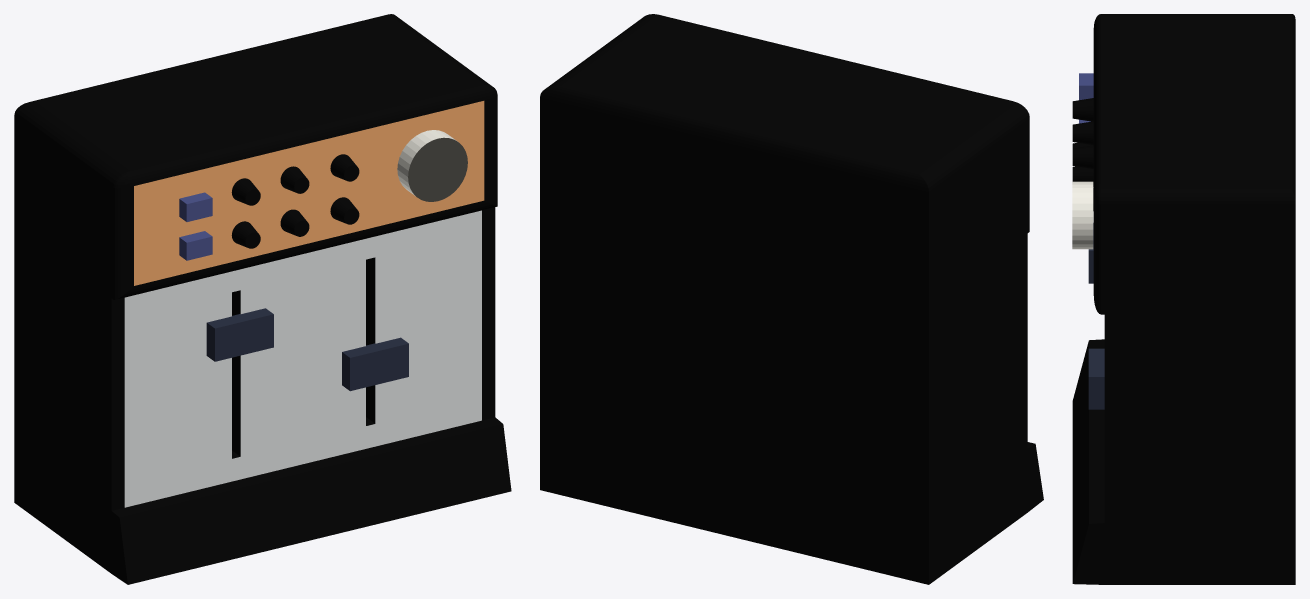
Rendered from Mixer2Unico.fbx.
3 renders of one model, left to right at view 1: azimuth 30°, elevation 25°; view 2: azimuth 150°, elevation 25°; view 3: azimuth 270°, elevation 25°, orthographic. The views are drawn at different scales.
Visible parts, largest first — view 1: Mixer2Unico; view 2: Mixer2Unico; view 3: Mixer2Unico.
Part boxes in pixels (bbox=[...]): Mixer2Unico: bbox=[14, 14, 511, 584]; Mixer2Unico: bbox=[540, 14, 1043, 584]; Mixer2Unico: bbox=[1072, 14, 1295, 584].
Size of the model in its own units: 143 by 143 by 73.45.
